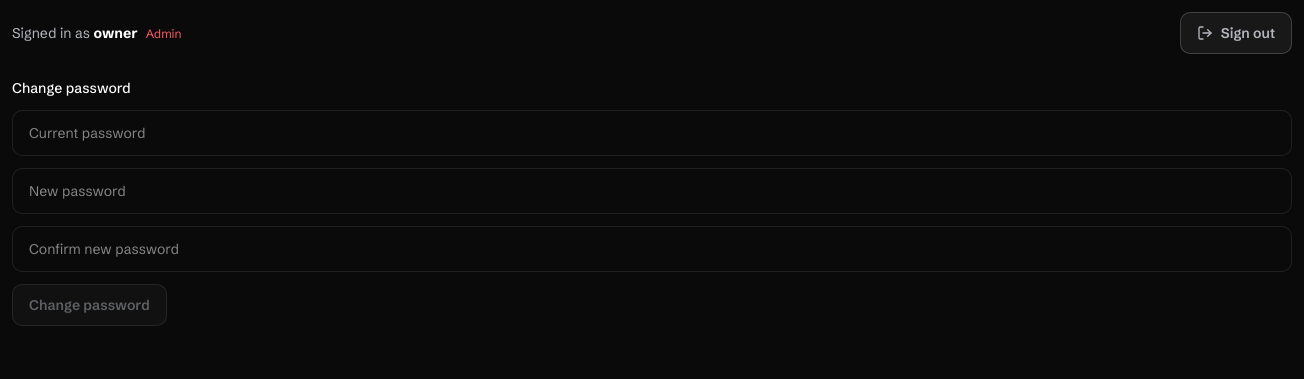
Test: AccountSettings › changes the password, and refuses new passwords that don't match
Step 1. Type "old-password" into the password field labelled "Current password" → (652, 133), box top-left (12, 110), bottom-right (1292, 156)
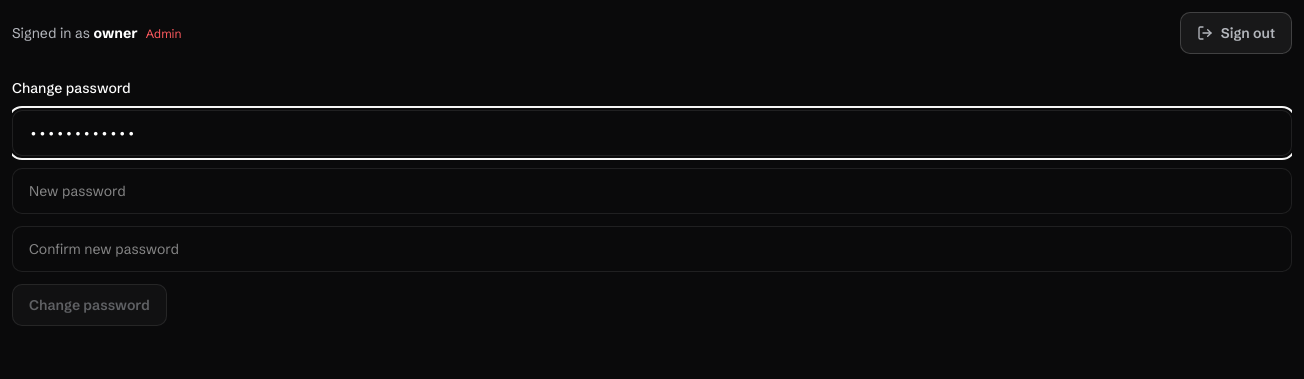
Step 2. Type "new-password" into the password field labelled "New password" → (652, 191), box top-left (12, 168), bottom-right (1292, 214)
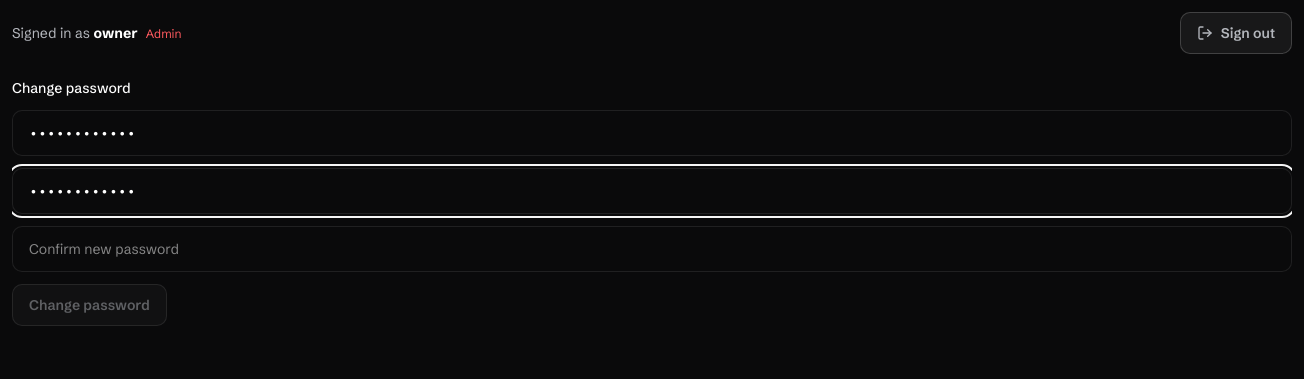
Step 3. Type "typo-password" into the password field labelled "Confirm new password" → (652, 249), box top-left (12, 226), bottom-right (1292, 272)
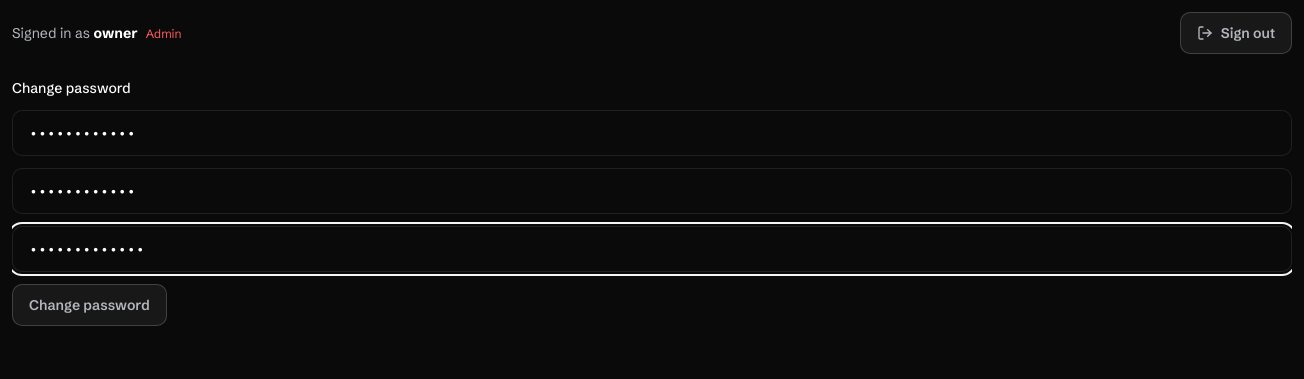
Step 4. Click the button "Change password" → (89, 305), box top-left (12, 284), bottom-right (167, 326)
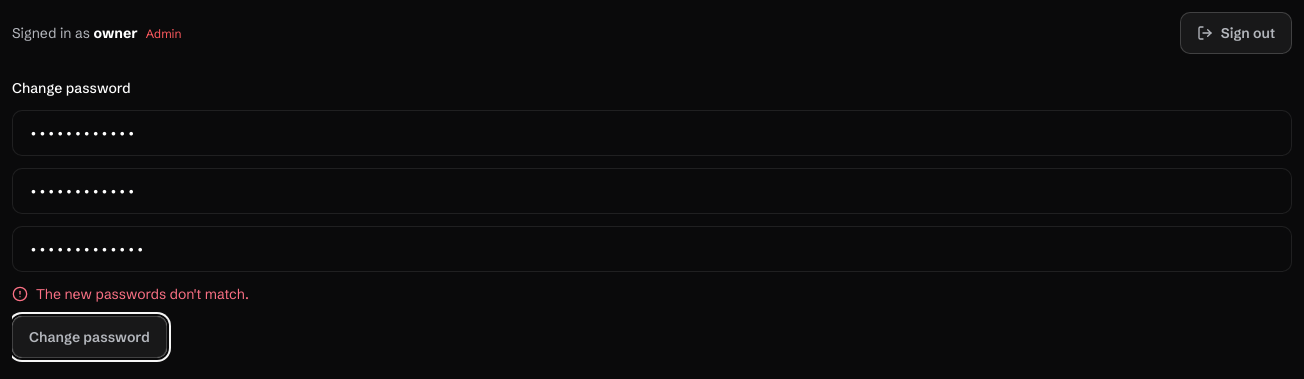
Now the message shows "don't match", box top-left (36, 285), bottom-right (249, 303)
Step 5. Type "new-password" into the password field named "Confirm new password" → (652, 249), box top-left (12, 226), bottom-right (1292, 272)
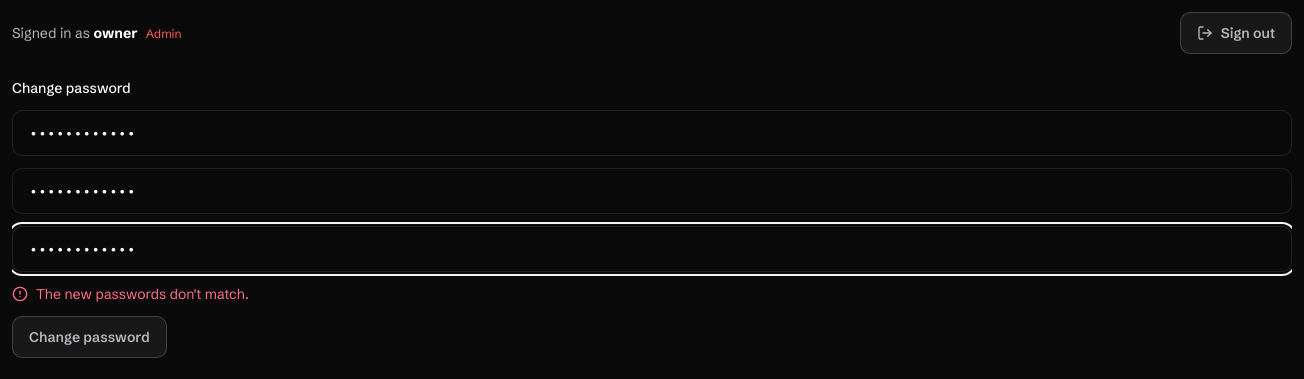
Step 6. Click the button "Change password" → (89, 337), box top-left (12, 316), bottom-right (167, 358)
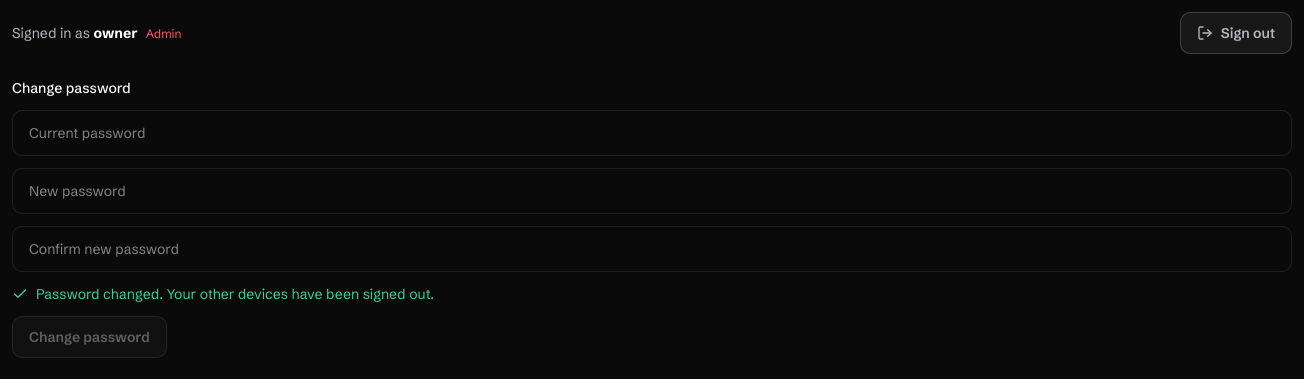
Now the message shows "Password changed", box top-left (36, 285), bottom-right (434, 303)
